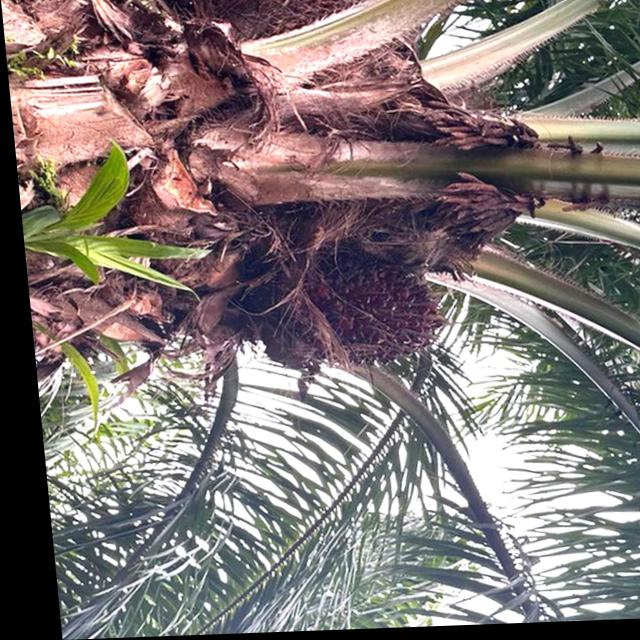ripe: (275, 259, 454, 386)
